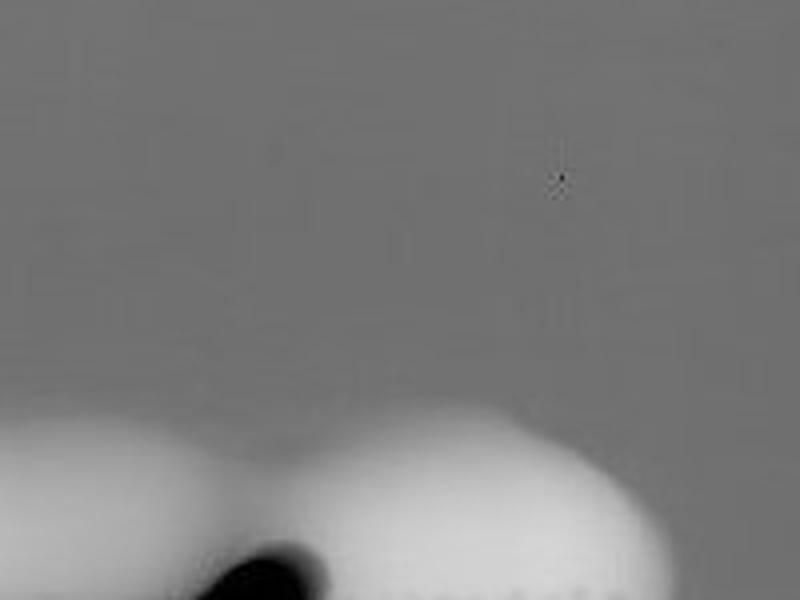defect: (190, 544, 318, 600), (555, 169, 570, 185)
